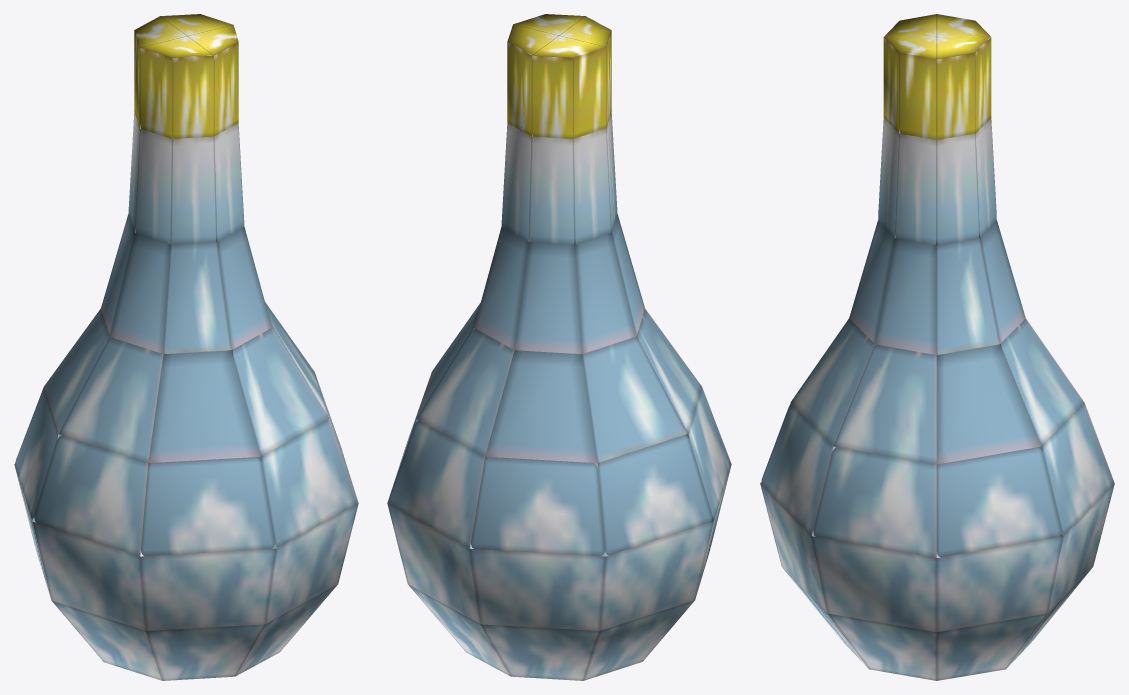
3 views of the same model, side by side, from view 1: azimuth 30°, elevation 25°; view 2: azimuth 150°, elevation 25°; view 3: azimuth 270°, elevation 25° (orthographic).
Visible parts, largest first — view 1: T1L4M009_5; view 2: T1L4M009_5; view 3: T1L4M009_5.
Boxes of the visible parts, x1,y1,x2,y2 form: T1L4M009_5: (14,14,358,680); T1L4M009_5: (387,14,731,680); T1L4M009_5: (760,14,1114,680).
Size of the model in its own units: 0.2412 by 0.4531 by 0.2412.
